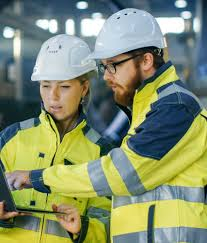helmet: (98, 12, 163, 54), (34, 36, 92, 81)
